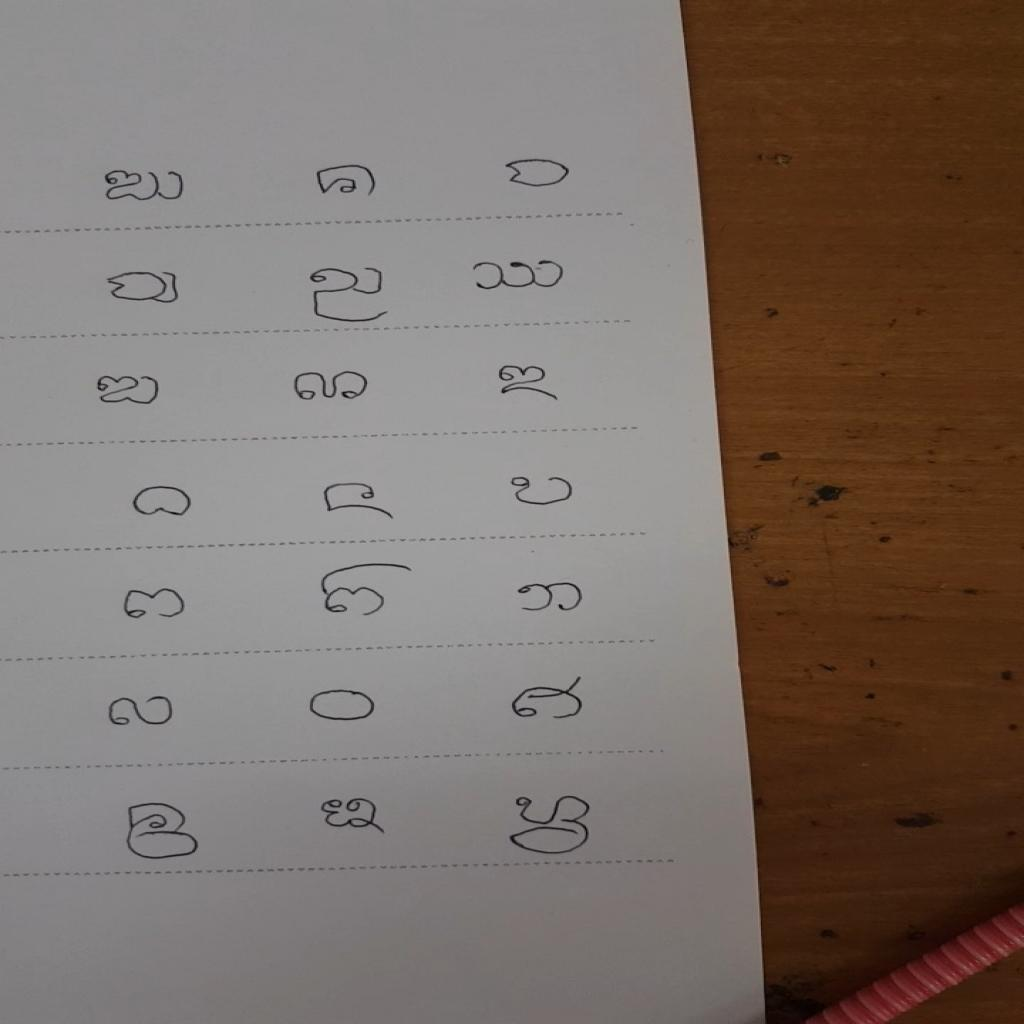LN004: (98, 168, 191, 206)
LN005: (310, 163, 382, 201)
LN006: (497, 154, 579, 195)
LN010: (99, 269, 185, 308)
LN011: (304, 263, 392, 327)
LN012: (465, 256, 570, 295)
LN016: (90, 372, 168, 409)
LN017: (289, 369, 377, 405)
LN018: (492, 363, 563, 405)
LN022: (128, 484, 198, 521)
LN023: (318, 480, 400, 524)
LN024: (505, 473, 580, 510)
LN028: (116, 585, 192, 623)
LN029: (316, 560, 416, 620)
LN030: (511, 580, 589, 616)
LN034: (104, 692, 179, 731)
LN035: (304, 687, 382, 725)
LN036: (506, 673, 590, 724)
LN040: (120, 800, 207, 864)
LN041: (315, 794, 390, 838)
LN042: (503, 792, 596, 859)
